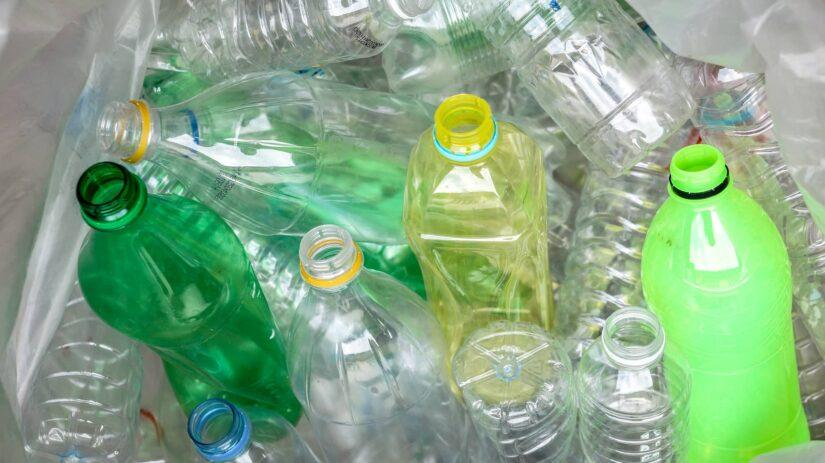plastic: (100, 71, 428, 265), (78, 193, 302, 458), (641, 143, 808, 462), (282, 225, 467, 460), (404, 93, 553, 350), (503, 0, 693, 174), (557, 128, 694, 333), (21, 296, 141, 460), (158, 0, 380, 81), (452, 321, 569, 460), (577, 307, 670, 462)
